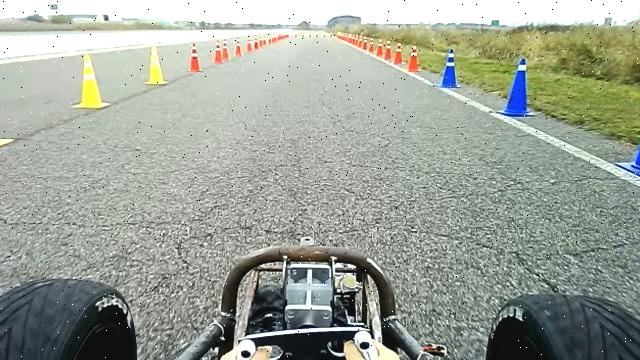blue cone: (498, 57, 537, 117), (436, 48, 462, 88)
red cone: (187, 42, 203, 72), (406, 43, 422, 72), (393, 42, 404, 65), (213, 40, 223, 63), (383, 40, 393, 61), (222, 38, 230, 62), (234, 37, 243, 57), (375, 39, 384, 57)
yellow cone: (72, 53, 111, 109), (144, 44, 168, 86)
